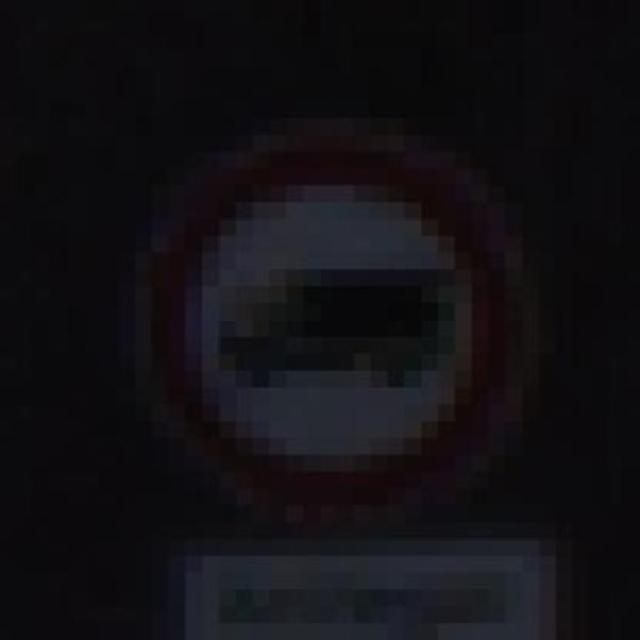Truck traffic is prohibited: (84, 101, 556, 539)
